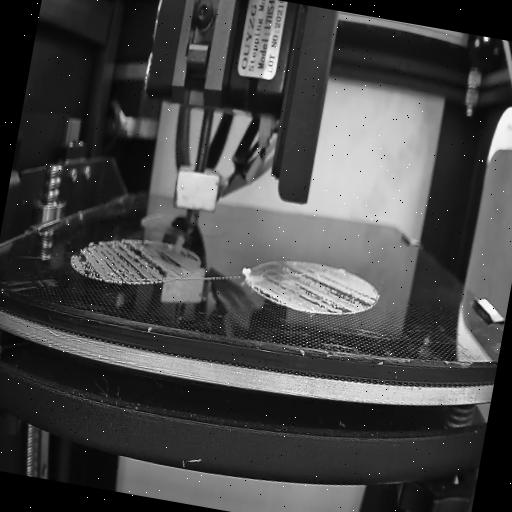under_extrusion: (67, 231, 199, 298), (251, 262, 380, 318)
